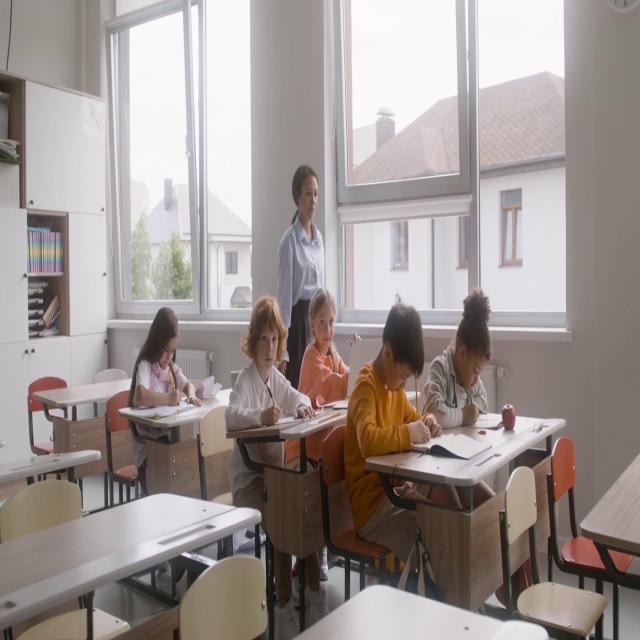reading: (299, 287, 349, 403)
writing: (349, 303, 461, 621), (223, 296, 316, 637), (421, 289, 491, 432), (130, 308, 200, 442)
